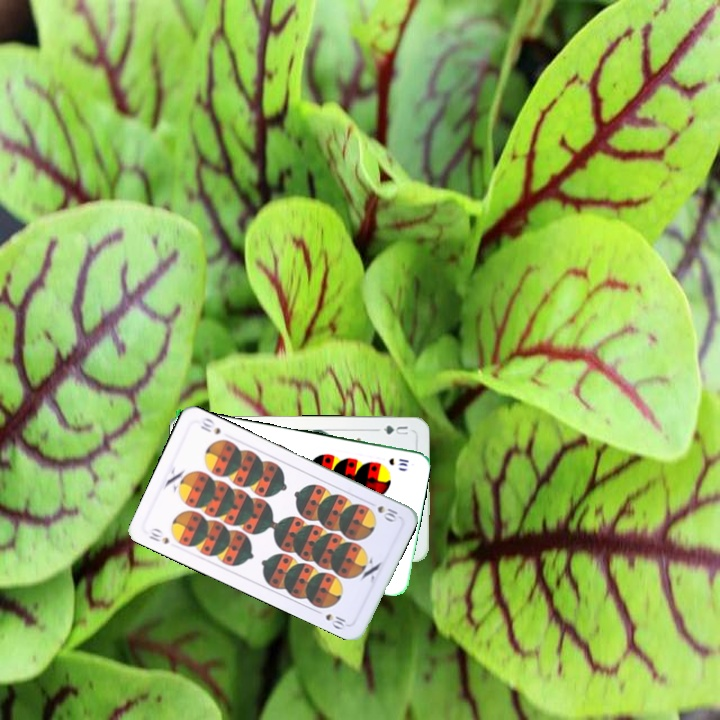GU: (373, 421, 411, 437)
S10: (364, 497, 402, 524), (145, 524, 172, 547), (385, 454, 411, 469)
